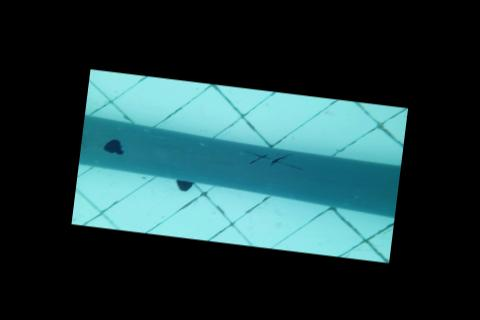kebocoran: (102, 136, 126, 155)
keretakan: (245, 146, 305, 169)
